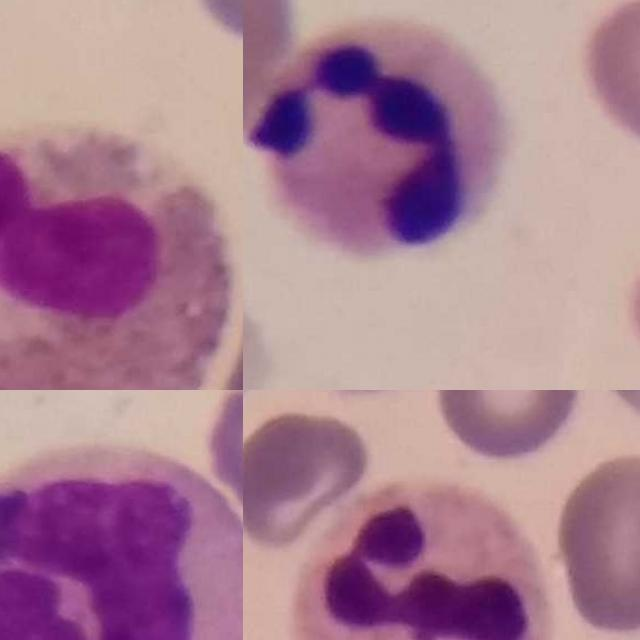Eosinophil: (0, 124, 235, 390)
Monocyte: (0, 444, 243, 640)
Neutrophil: (249, 13, 500, 258), (296, 477, 552, 640)
